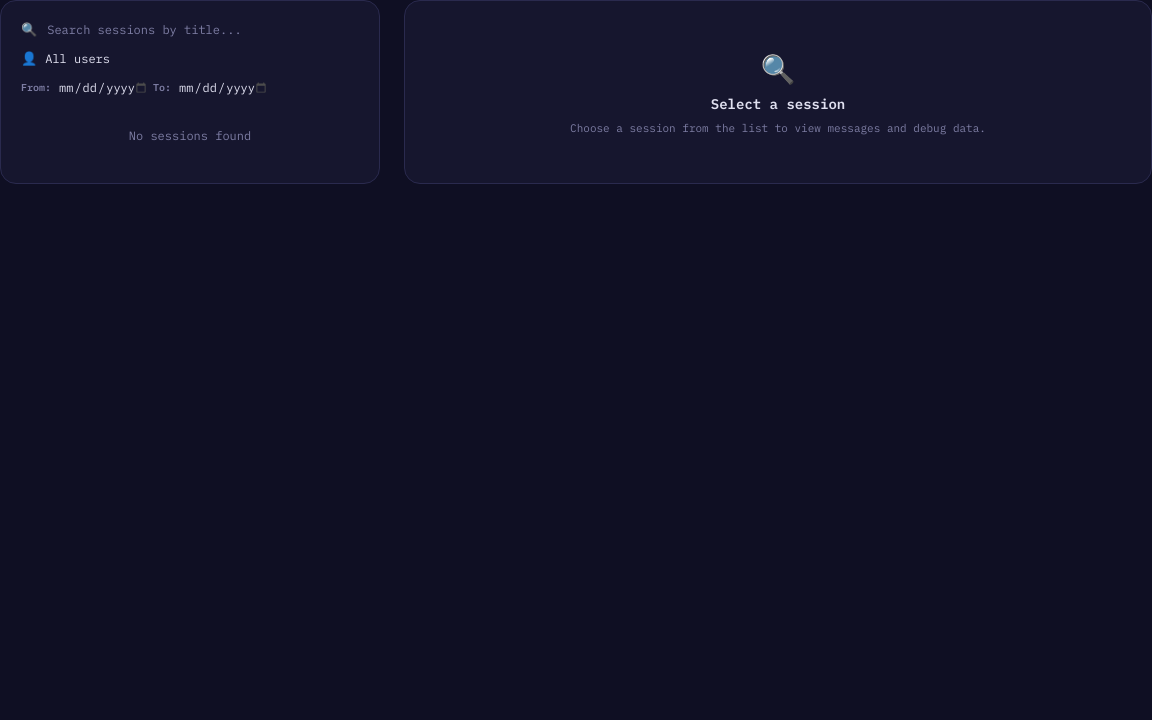
Scenario: SessionDebug › debug panel shows 7 steps
Type "Technical" into the field with test id "session-debug-search".
click(202, 30); type("Technical")  # box [45, 21, 359, 38]
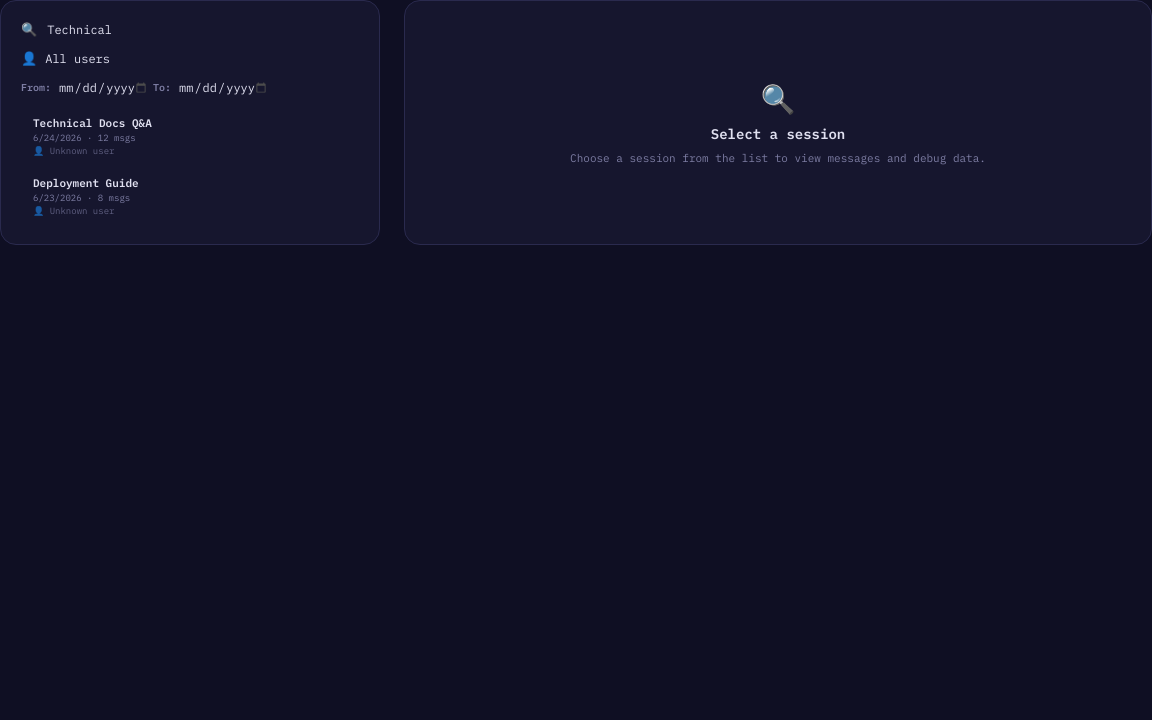
Click the element with test id "session-list-item" that starts with "Technical Docs Q&A".
click(92, 136)  # box [33, 116, 152, 156]
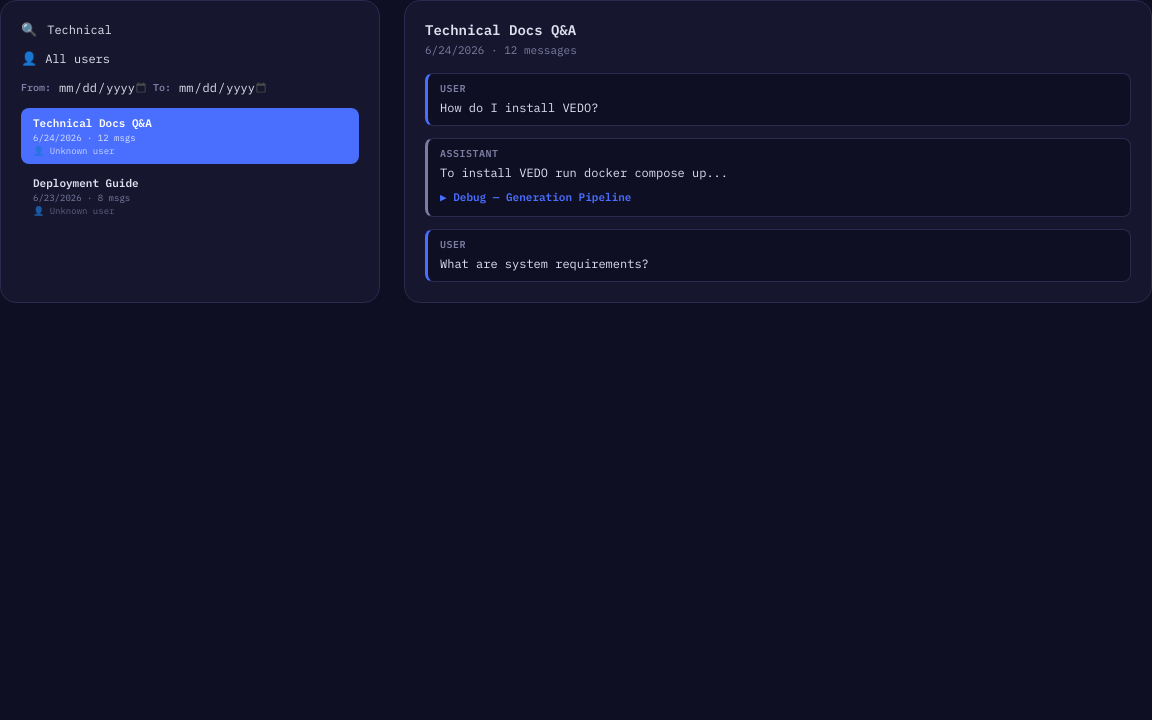
Click the button with test id "session-debug-toggle".
click(536, 197)  # box [440, 186, 1118, 208]
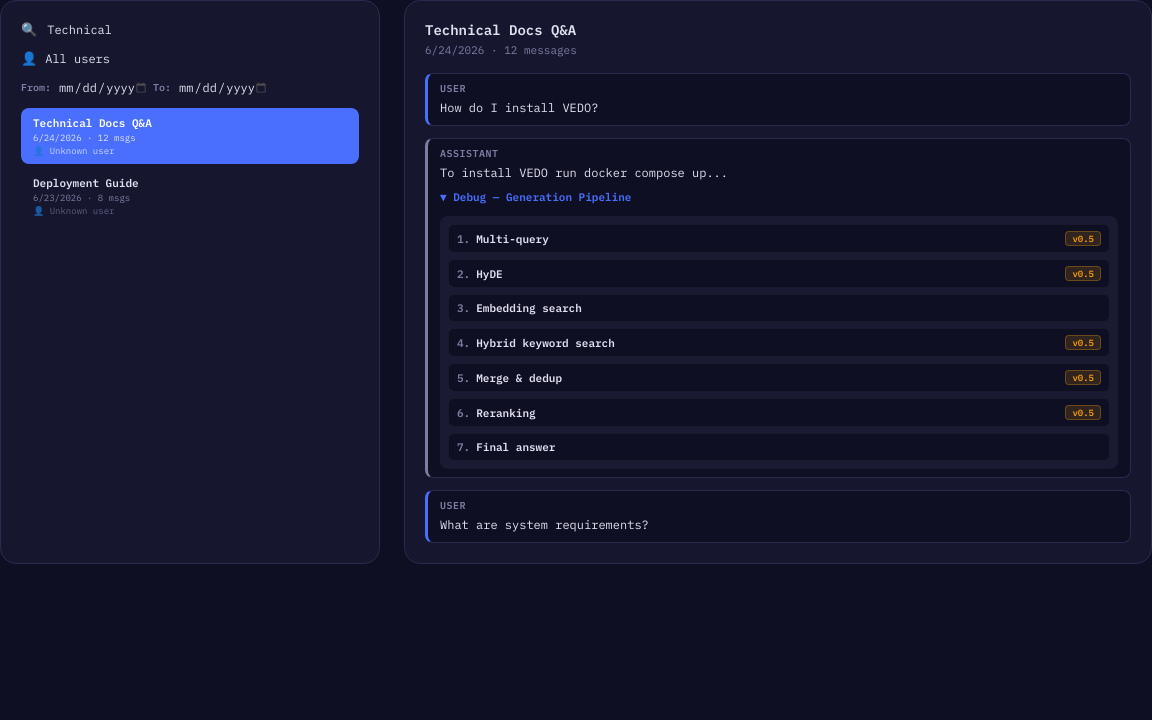
Expected: the number of elements with test id "debug-step-title" is 7
